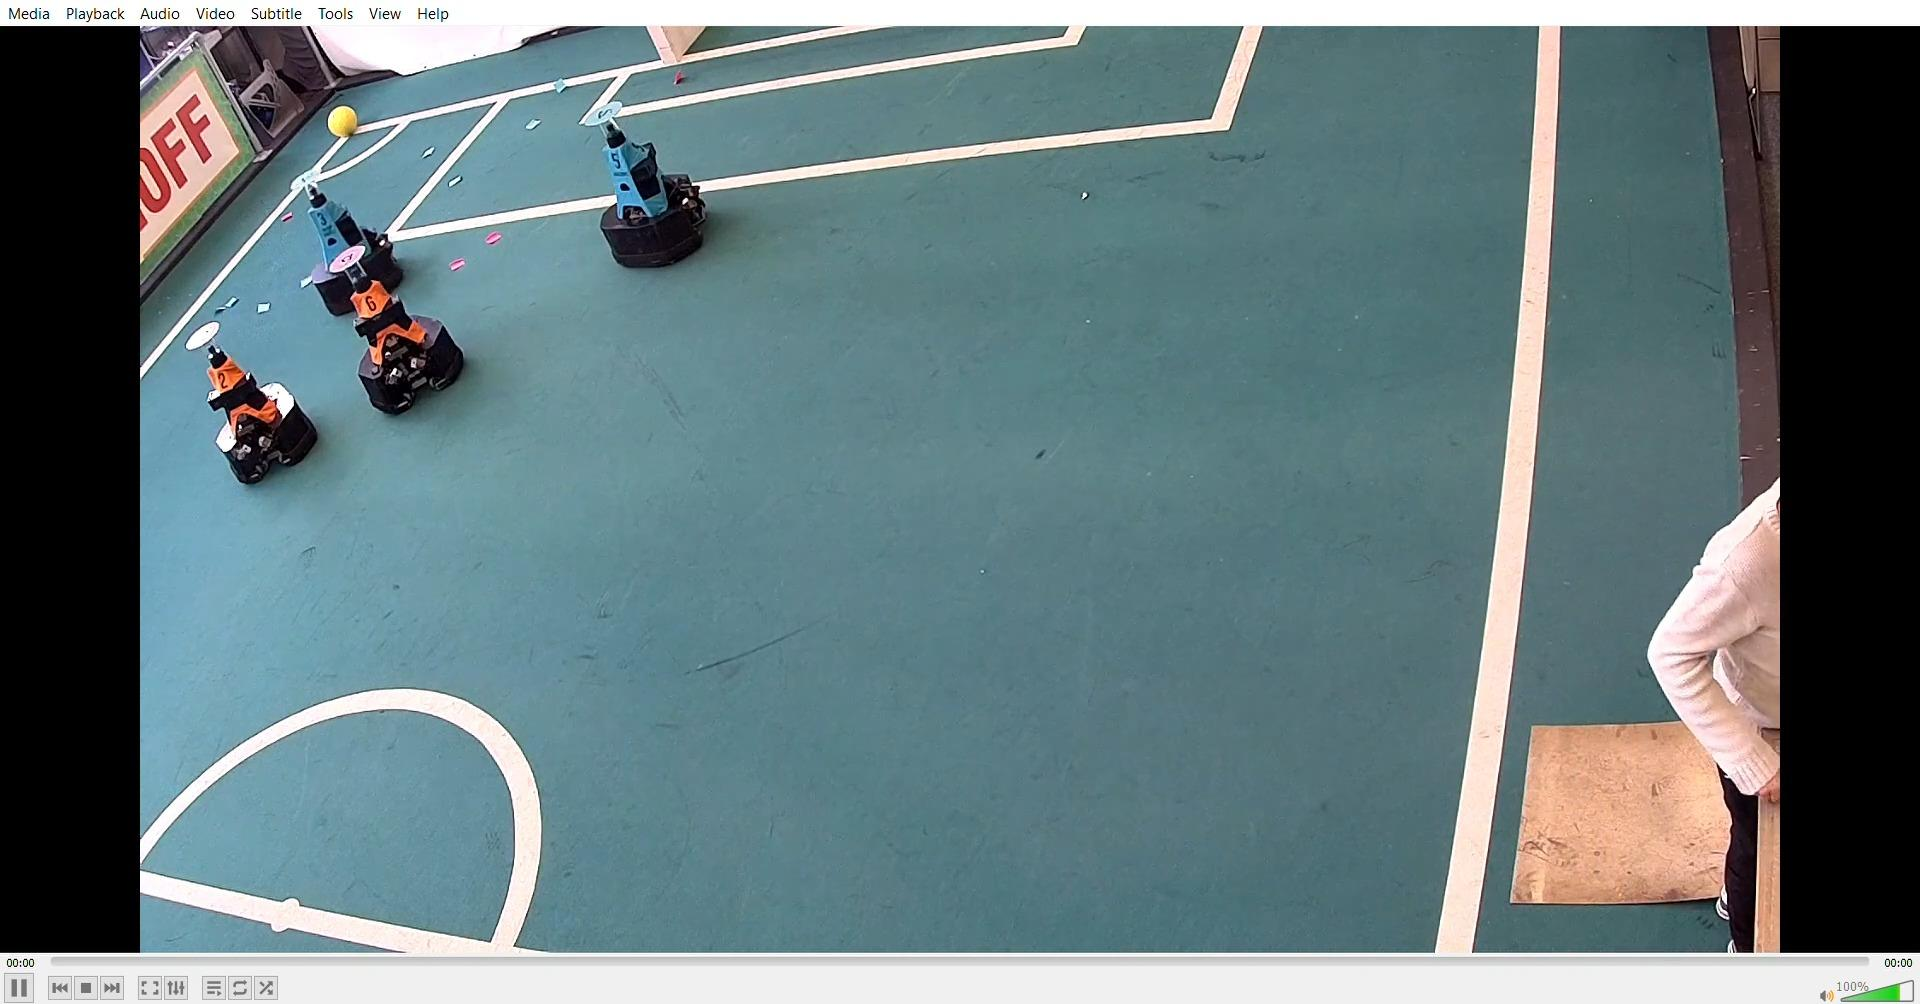Ball: (334, 104, 370, 137)
Team_Blue: (580, 90, 721, 272), (284, 168, 410, 317)
Team_Red: (315, 241, 462, 407), (182, 317, 321, 489)
